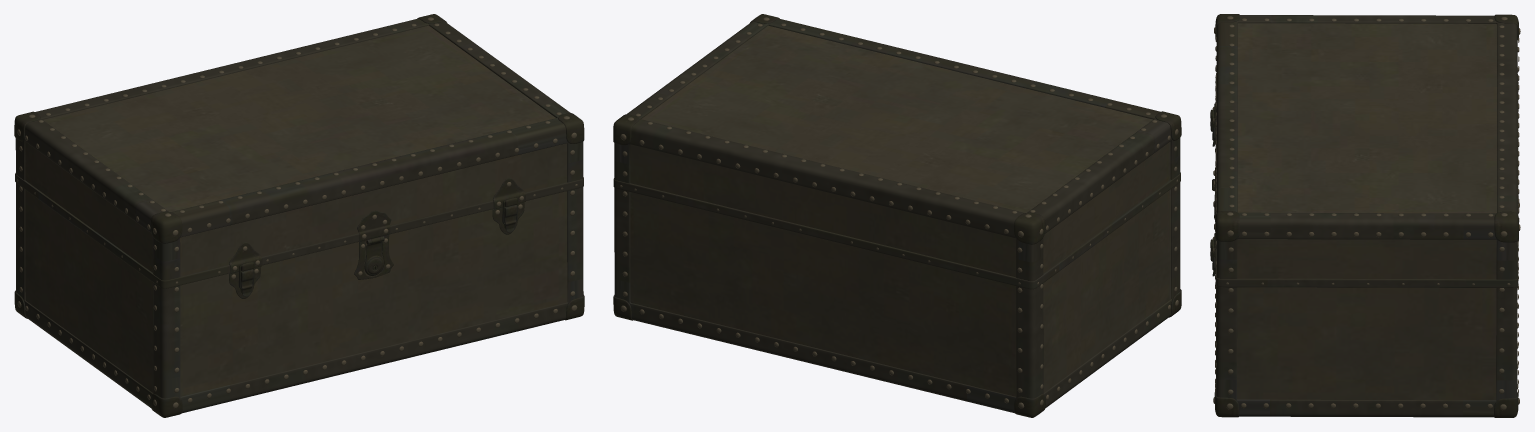
The model's file is _treasurebox.FBX.
3 views of the same model, side by side, from view 1: azimuth 30°, elevation 25°; view 2: azimuth 150°, elevation 25°; view 3: azimuth 270°, elevation 25° (orthographic).
Parts seen in each view (by area): view 1: Luggage; view 2: Luggage; view 3: Luggage.
Boxes of the visible parts, x1,y1,x2,y2 form: Luggage: (14, 14, 584, 417); Luggage: (613, 14, 1181, 417); Luggage: (1210, 14, 1520, 417).
Size of the model in its own units: 88.72 by 39.82 by 55.37.
